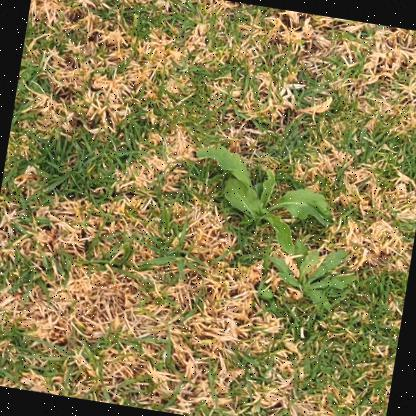Weeds: (184, 142, 345, 261), (259, 233, 364, 324)
